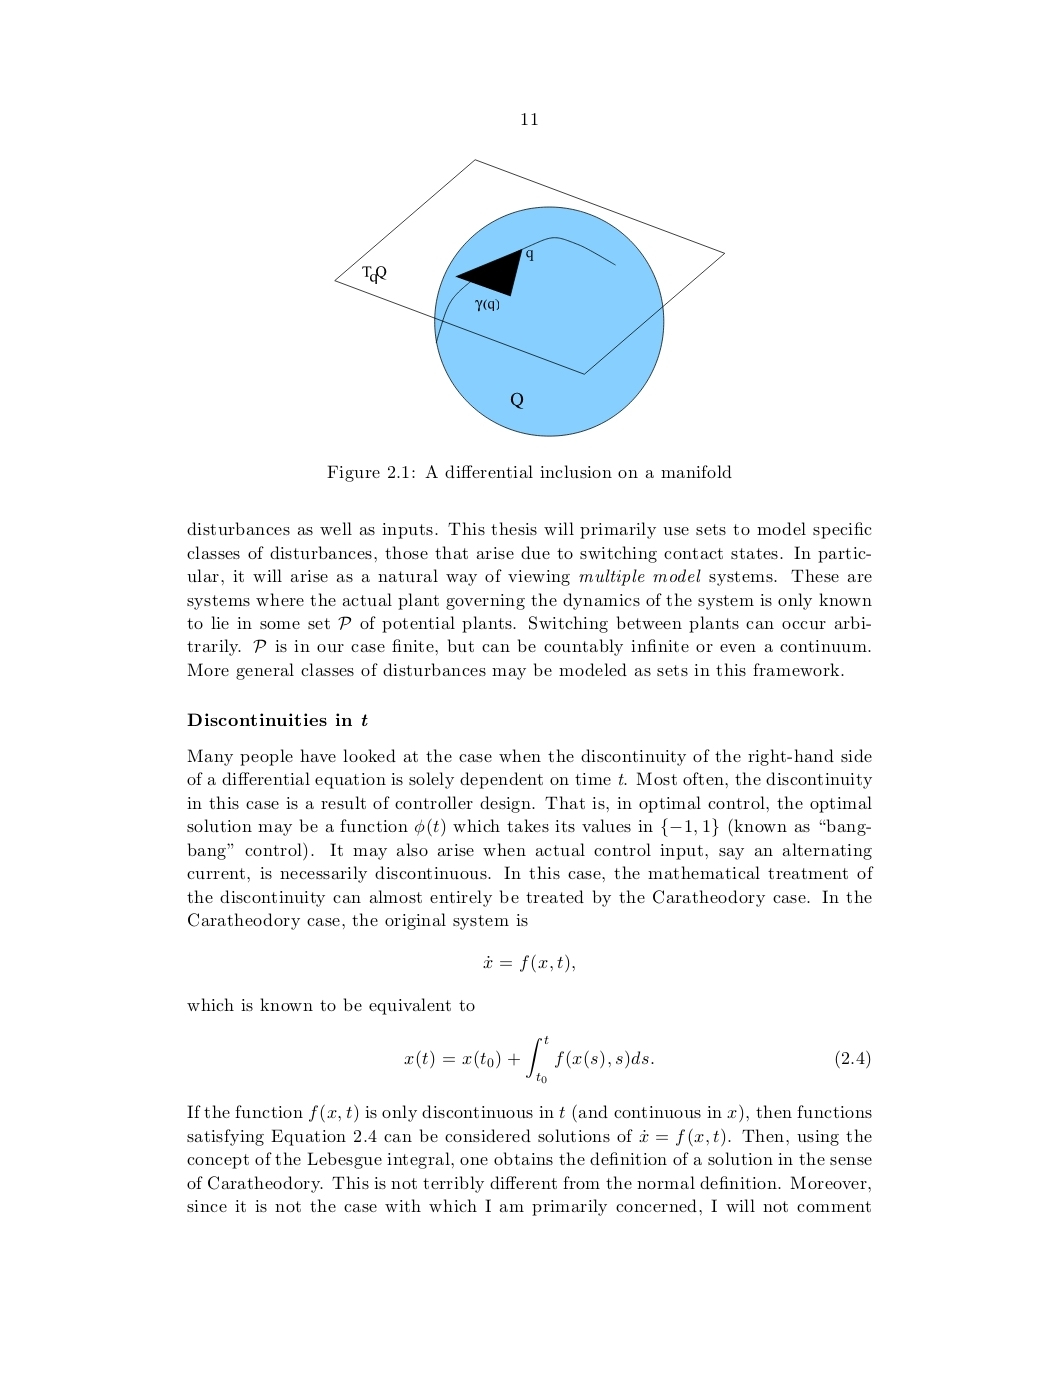figure: (334, 158, 724, 437)
formula: (403, 1035, 870, 1084), (483, 953, 574, 973)
